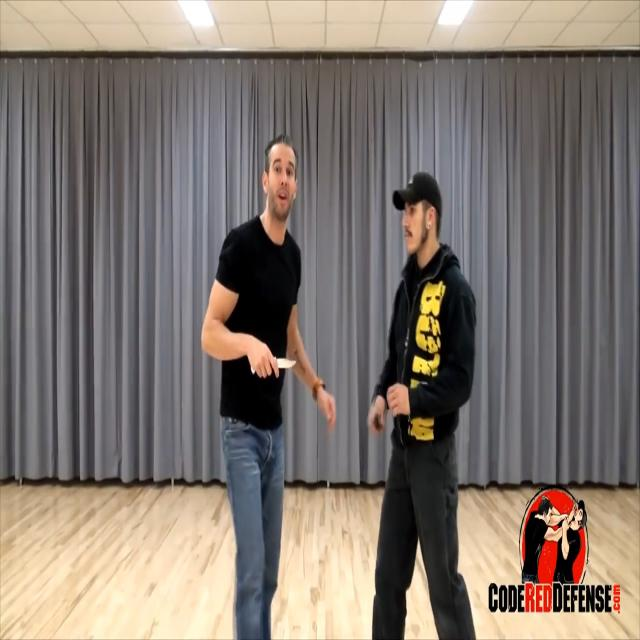knife: (273, 358, 300, 375)
